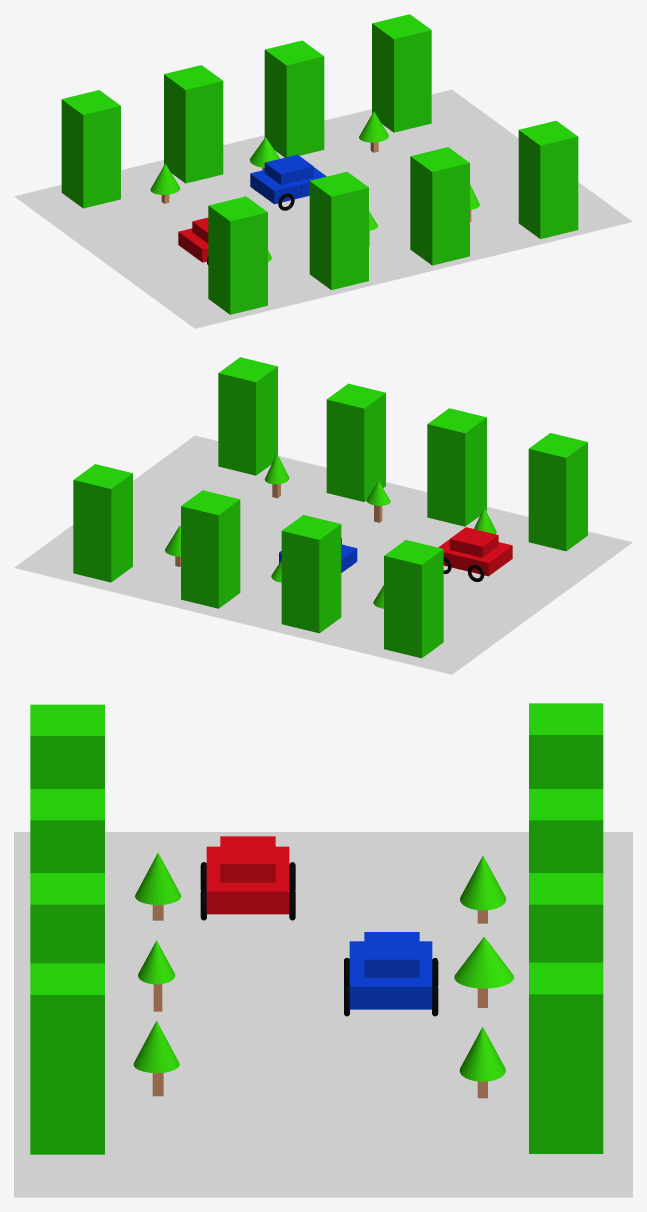
The model's file is new tork.glb.
The picture shows the model from 3 angles, top to bottom: view 1: azimuth 30°, elevation 25°; view 2: azimuth 150°, elevation 25°; view 3: azimuth 270°, elevation 25°; orthographic projection. The views are drawn at different scales.
Visible parts, largest first — view 1: Plane, house.002, house.006, house.003, house.004, house.001, house, house.005, house.007, car.005, car.003, car.004 (+3 smaller); view 2: Plane, house.005, house.004, house.006, house.007, house.003, house.001, house.002, house, car.001, car.004, top tree.001; view 3: Plane, house.002, house.007, house, house.006, house.004, house.003, house.001, house.005, car, car.002, car.001 (+9 smaller).
Boxes of the visible parts, x1,y1,x2,y2 form: Plane: (14,89,632,328); house.002: (518,120,578,238); house.006: (264,40,324,157); house.003: (208,196,267,314); house.004: (61,90,120,208); house.001: (309,171,368,289); house: (410,147,469,265); house.005: (164,65,223,183); house.007: (372,14,431,132); car.005: (264,154,313,184); car.003: (250,170,301,204); car.004: (178,228,208,262); Plane: (14,435,632,674); house.005: (281,515,341,633); house.004: (384,540,443,658); house.006: (181,490,240,608); house.007: (73,464,132,582); house.003: (528,433,587,551); house.001: (427,408,486,526); house.002: (218,357,277,475); house: (326,383,385,501); car.001: (449,527,498,557); car.004: (461,542,512,576); top tree.001: (264,453,289,484); Plane: (14,832,632,1197); house.002: (30,963,104,1154); house.007: (529,962,603,1153); house: (30,873,104,963); house.006: (529,873,603,962); house.004: (529,703,603,788); house.003: (30,704,104,788); house.001: (30,789,104,872); house.005: (529,789,603,872); car: (206,869,289,914); car.002: (349,964,432,1009); car.001: (220,836,275,882).
Bounding box in the file's own units: 68.85 × 14.25 × 49.27.
